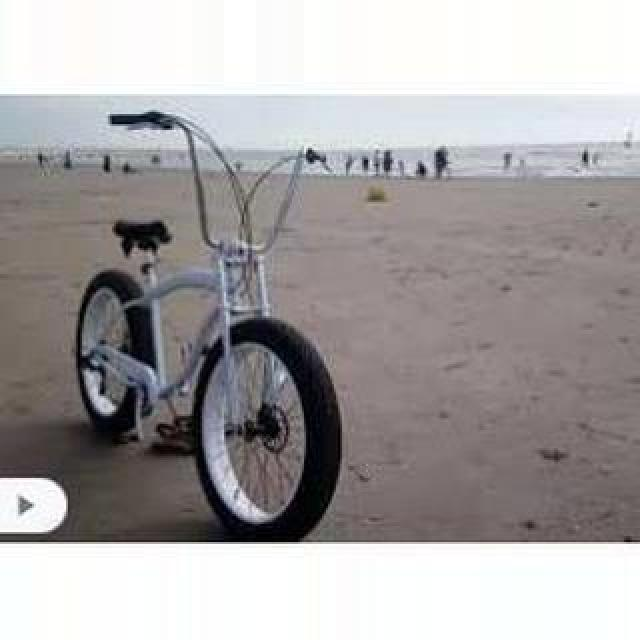MC-Bike: (434, 148, 450, 180), (384, 150, 394, 176), (344, 154, 354, 176), (580, 148, 590, 168), (502, 152, 512, 170), (416, 160, 426, 178), (362, 156, 370, 176)
Person: (70, 112, 344, 540)
